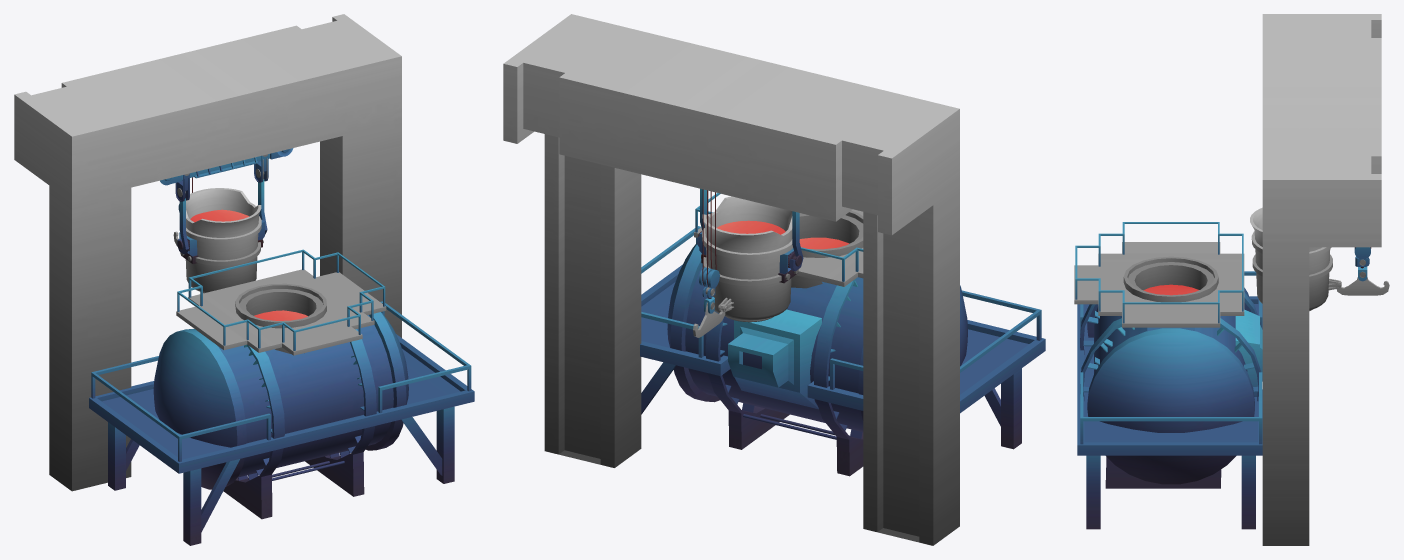
Rendered from TieShuiGuan.glb.
The picture shows the model from 3 angles, left to right: view 1: azimuth 30°, elevation 25°; view 2: azimuth 150°, elevation 25°; view 3: azimuth 270°, elevation 25°; orthographic projection. The views are drawn at different scales.
Parts seen in each view (by area): view 1: TieShuiGuan; view 2: TieShuiGuan; view 3: TieShuiGuan.
Part boxes in pixels (x1,y1,x2,y2): TieShuiGuan: (14, 14, 474, 545); TieShuiGuan: (503, 14, 1045, 545); TieShuiGuan: (1074, 14, 1389, 545).
Size of the model in its own units: 14.68 by 15.08 by 11.77.
Materials: 1 (1 with a texture image).
